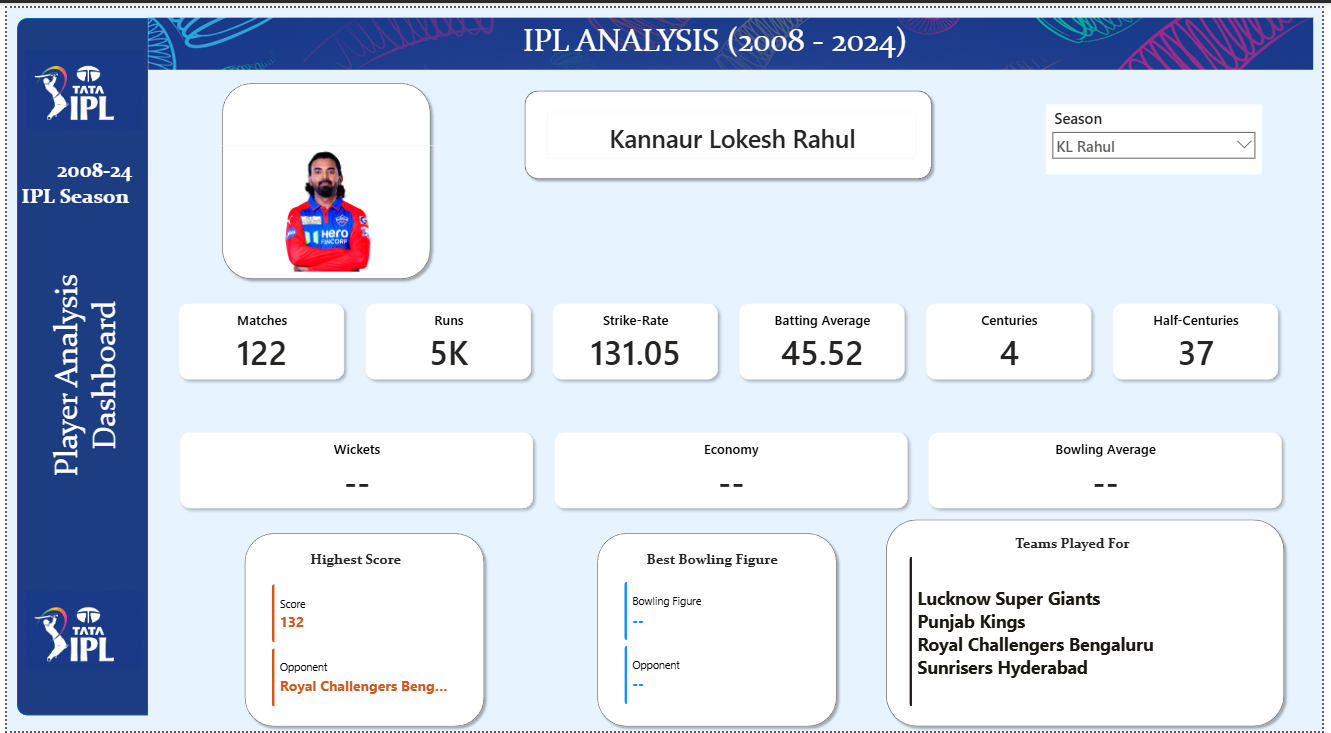

This screenshot's page, from the dashboard's own definition file:
{"tool":"powerbi","page":{"name":"Player Analysis Dashboard","canvas":[2000,1100],"ordinal":5},"visuals":[{"type":"shape","box":[1328.4,769.7,621.5,330.7],"z":0},{"type":"shape","box":[319.3,106.4,332.6,313.6],"z":1000},{"type":"shape","box":[15.2,15.2,199.6,1060.5],"z":2000},{"type":"image","box":[214.8,1.9,1771.3,104.5],"z":3000},{"type":"textbox","box":[779.2,15.2,600.6,76],"z":4000},{"type":"cardVisual","fields":{"Data":["Sum(ipl_analysis player_stats.matches_played)","Sum(ipl_analysis player_stats.total_runs)","Sum(ipl_analysis player_stats.strike_rate)","Sum(ipl_analysis player_stats.batting_average)","Sum(ipl_analysis player_stats.hundreds)","Sum(ipl_analysis player_stats.fifties)"]},"box":[231.9,420,1735.2,174.8],"z":5000},{"type":"shape","box":[36.1,326.9,165.3,463.7],"z":6000},{"type":"image","box":[26.6,55.1,180.5,138.7],"z":7000},{"type":"image","box":[26.6,878,180.5,138.7],"z":8000},{"type":"textbox","box":[17.1,222.4,231.9,104.5],"z":9000},{"type":"slicer","fields":{"Values":["ipl_analysis player_stats.player_name"]},"box":[1579.3,146.3,328.8,106.4],"z":10000},{"type":"shape","box":[779.2,117.8,634.8,150.1],"z":11000},{"type":"cardVisual","fields":{"Data":["Min(ipl_analysis players.player_full_name)"]},"box":[803.9,140.6,596.8,106.4],"z":12000},{"type":"cardVisual","fields":{"Data":["Min(ipl_analysis players.player_image)"]},"box":[264.2,0,442.8,418.1],"z":13000},{"type":"cardVisual","fields":{"Data":["Sum(ipl_analysis player_stats.total_wickets)","Sum(ipl_analysis player_stats.economy)","Sum(ipl_analysis player_stats.bowling_average)"]},"box":[233.8,615.8,1735.2,174.8],"z":14000},{"type":"shape","box":[353.5,790.6,380.1,309.8],"z":15000},{"type":"shape","box":[889.4,790.6,380.1,309.8],"z":16000},{"type":"cardVisual","fields":{"Data":["Sum(ipl_analysis player_stats.highest_score)","Min(ipl_analysis player_stats.highest_score_opponent)"]},"box":[385.8,859,315.5,220.5],"z":17000},{"type":"cardVisual","fields":{"Data":["Min(ipl_analysis player_stats.best_bowling)","Min(ipl_analysis player_stats.best_bowling_opponent)"]},"box":[921.7,855.2,315.5,220.5],"z":18000},{"type":"cardVisual","title":"Teams ","fields":{"Data":["ipl_analysis player_stats.Teams Played Display"]},"box":[1355.1,817.2,566.3,262.3],"z":19000},{"type":"textbox","box":[456.1,821,176.7,38],"z":20000},{"type":"textbox","box":[967.4,821,222.4,41.8],"z":21000},{"type":"textbox","box":[1528,796.3,224.3,41.8],"z":22000}]}

Visuals, with their boxes in screenshot pixels (x1, y1, x2, y2), scaled from the page's 2000x1100 canvas onto the 1331x733 screenshot:
shape: (884, 513, 1298, 732)
shape: (212, 71, 434, 280)
shape: (10, 10, 143, 717)
image: (143, 1, 1322, 71)
textbox: (519, 10, 918, 61)
cardVisual - Sum(ipl_analysis player_stats.matches_played) x Sum(ipl_analysis player_stats.total_runs): (154, 280, 1309, 396)
shape: (24, 218, 134, 527)
image: (18, 37, 138, 129)
image: (18, 585, 138, 677)
textbox: (11, 148, 166, 218)
slicer - ipl_analysis player_stats.player_name: (1051, 97, 1270, 168)
shape: (519, 78, 941, 179)
cardVisual - Min(ipl_analysis players.player_full_name): (535, 94, 932, 165)
cardVisual - Min(ipl_analysis players.player_image): (176, 0, 471, 279)
cardVisual - Sum(ipl_analysis player_stats.total_wickets) x Sum(ipl_analysis player_stats.economy): (156, 410, 1310, 527)
shape: (235, 527, 488, 732)
shape: (592, 527, 845, 732)
cardVisual - Sum(ipl_analysis player_stats.highest_score) x Min(ipl_analysis player_stats.highest_score_opponent): (257, 572, 467, 719)
cardVisual - Min(ipl_analysis player_stats.best_bowling) x Min(ipl_analysis player_stats.best_bowling_opponent): (613, 570, 823, 717)
"Teams " cardVisual: (902, 545, 1279, 719)
textbox: (304, 547, 421, 572)
textbox: (644, 547, 792, 575)
textbox: (1017, 531, 1166, 558)
